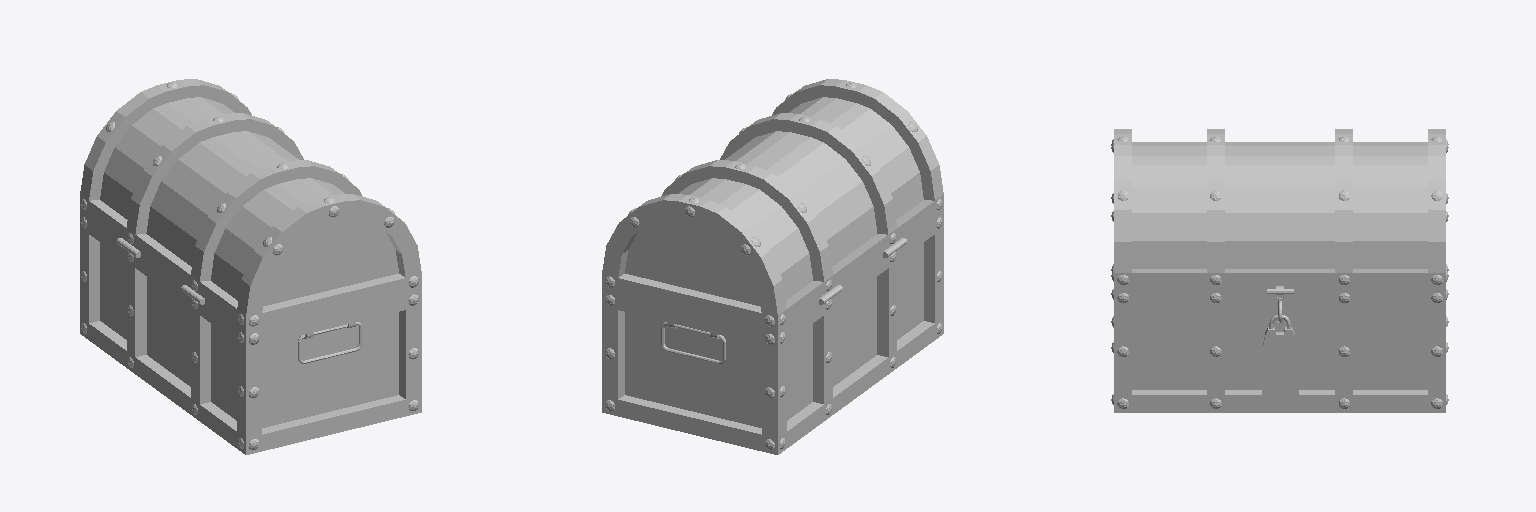
File: cofre.obj
The picture shows the model from 3 angles: view 1: azimuth 30°, elevation 25°; view 2: azimuth 150°, elevation 25°; view 3: azimuth 270°, elevation 25°; orthographic projection.
Parts seen in each view (by area): view 1: Chest; view 2: Chest; view 3: Chest.
Part boxes in pixels (x1,y1,x2,y2): Chest: (80, 79, 421, 454); Chest: (602, 79, 943, 454); Chest: (1111, 129, 1448, 412).
Size of the model in its own units: 1.12 by 1.27 by 1.67.